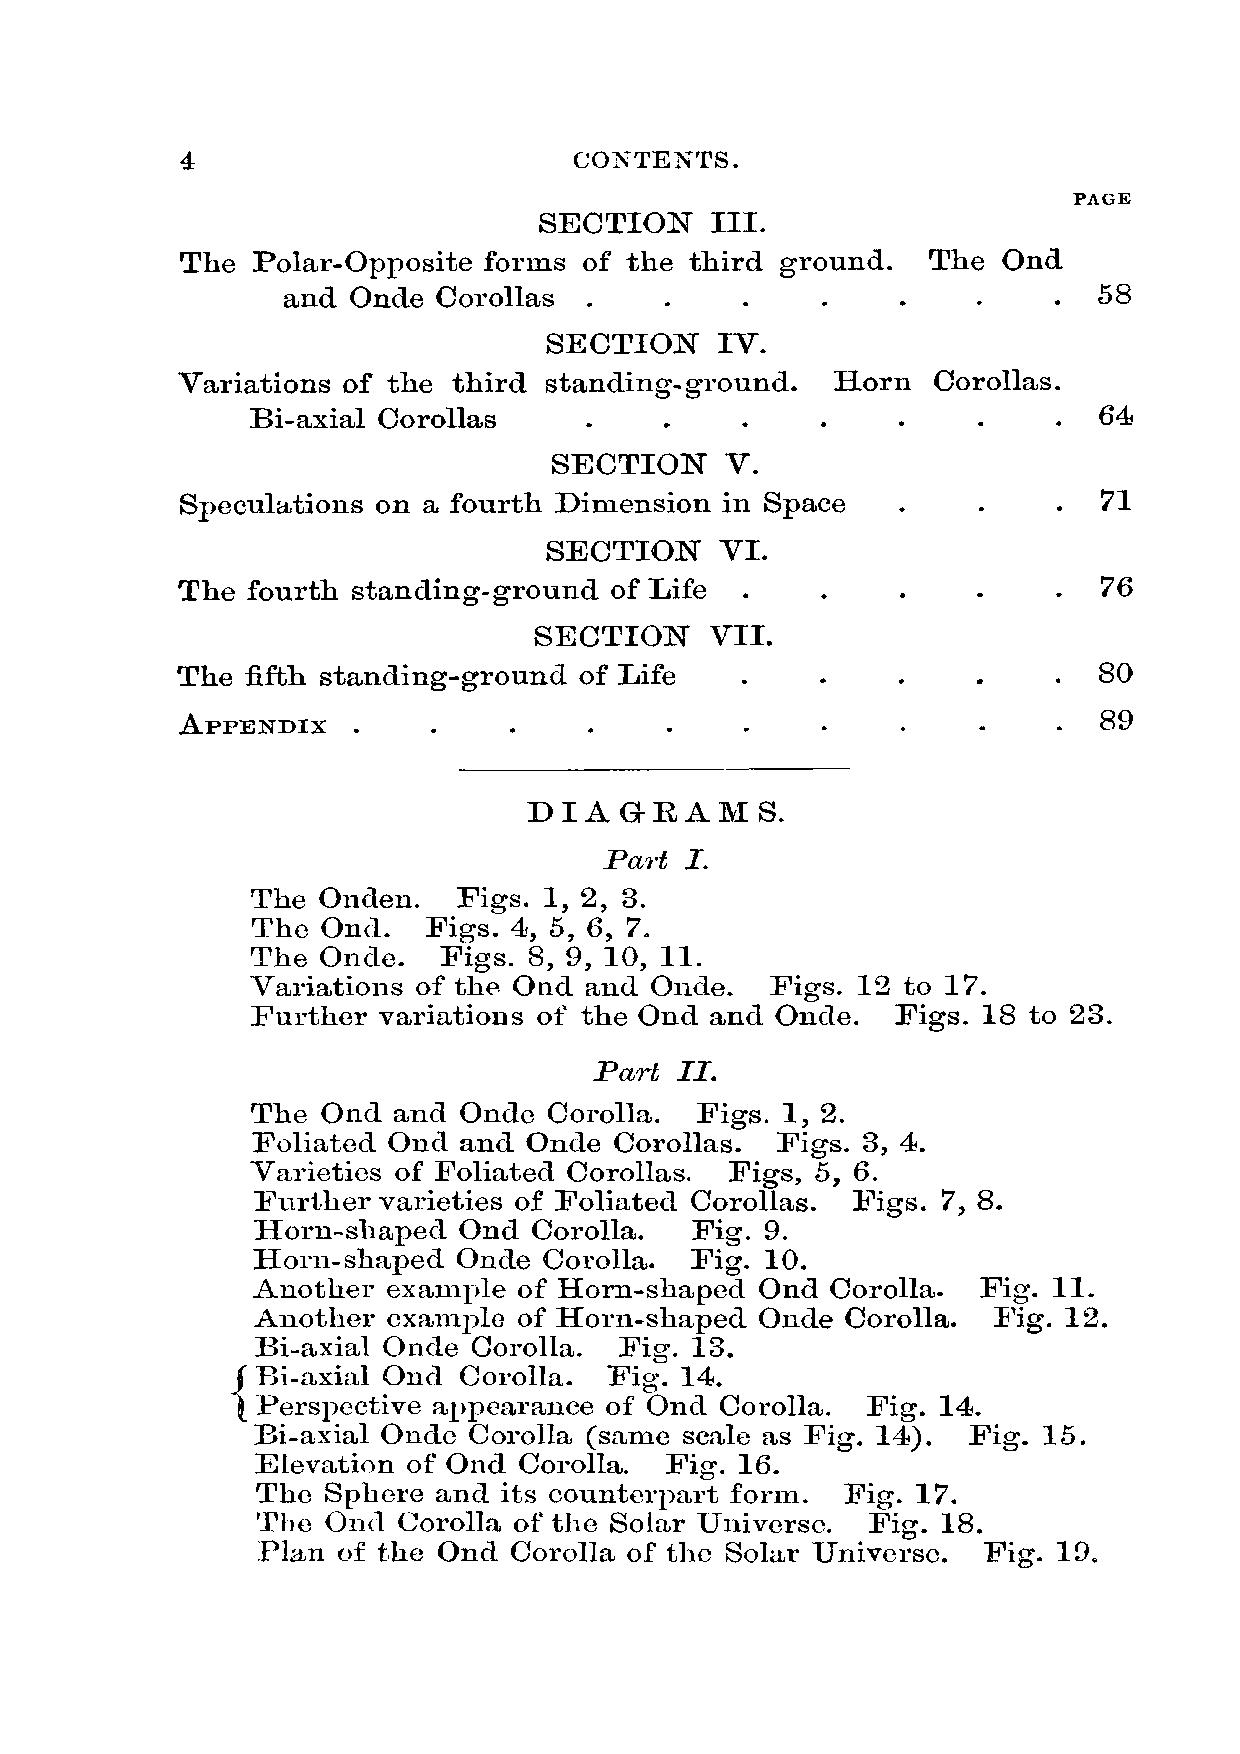TOC_chapter: (173, 364, 1075, 437), (174, 243, 1068, 310), (170, 484, 854, 525), (170, 573, 718, 611), (166, 658, 682, 694), (542, 530, 760, 570), (530, 203, 776, 238), (544, 442, 749, 482), (531, 619, 774, 652), (541, 322, 761, 358), (176, 705, 337, 741)
TOC_pagenumber: (1092, 651, 1135, 687), (1095, 392, 1135, 429), (1092, 274, 1133, 309), (1095, 480, 1133, 515), (1092, 568, 1137, 597), (1098, 702, 1133, 734)
chapter: (562, 144, 747, 176)
